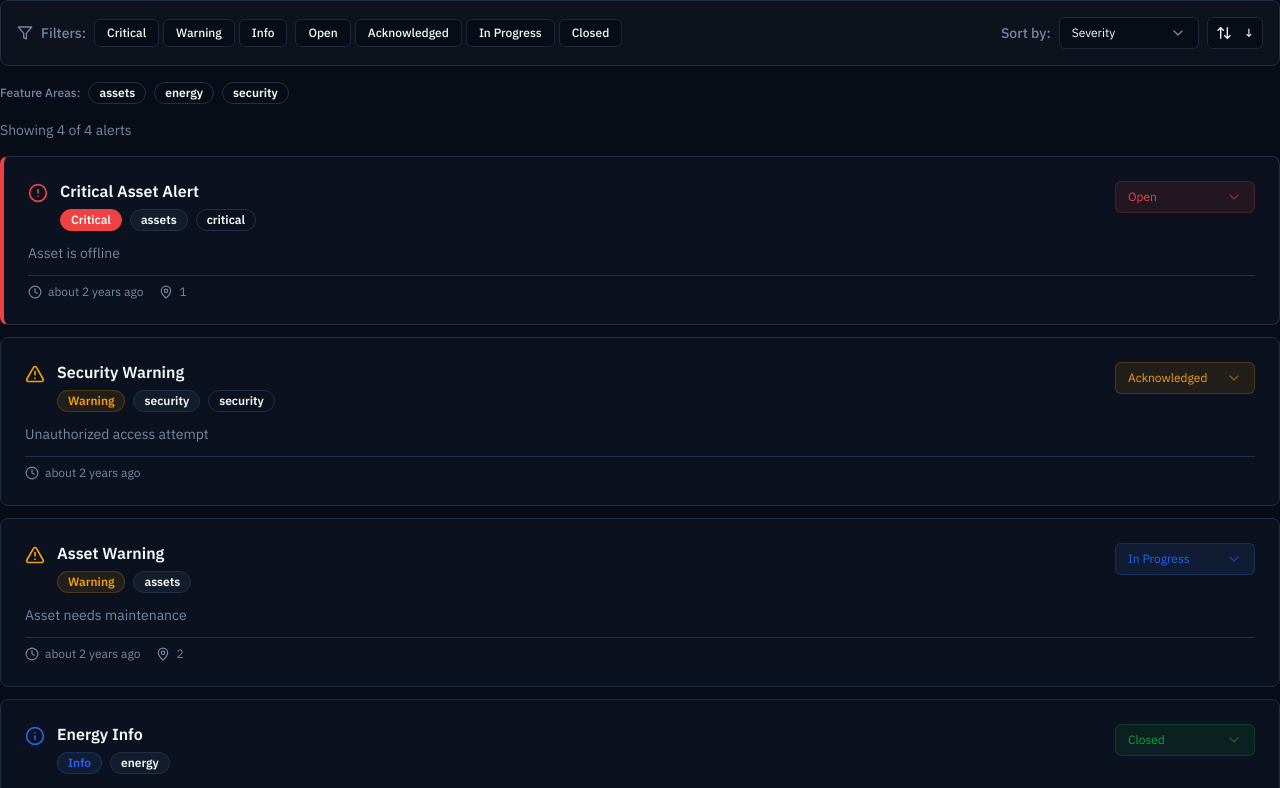
Scenario: AlertList › filters alerts by status
The image size is (1280, 788).
Click the Open filter button
Step 1. Click the button with aria-label "Filter by open status" → (323, 33), box [296,19,351,47]
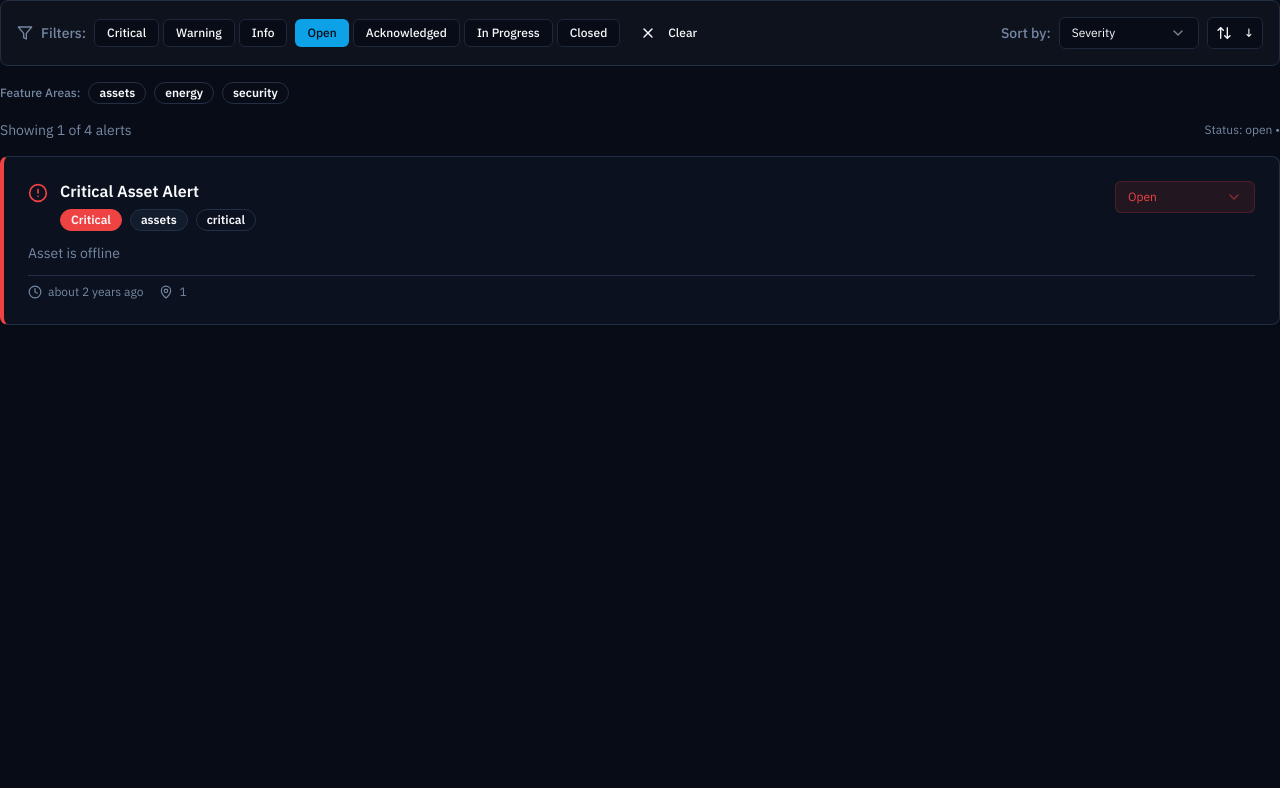
Expected: the heading "Critical Asset Alert" is shown, [60,181,199,201]
Expected: the text "Showing 1 of 4 alerts" is shown, [0,120,132,140]
